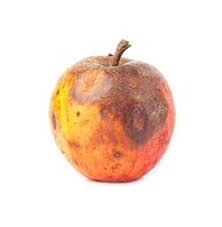damaged_apple: (51, 48, 181, 189)
